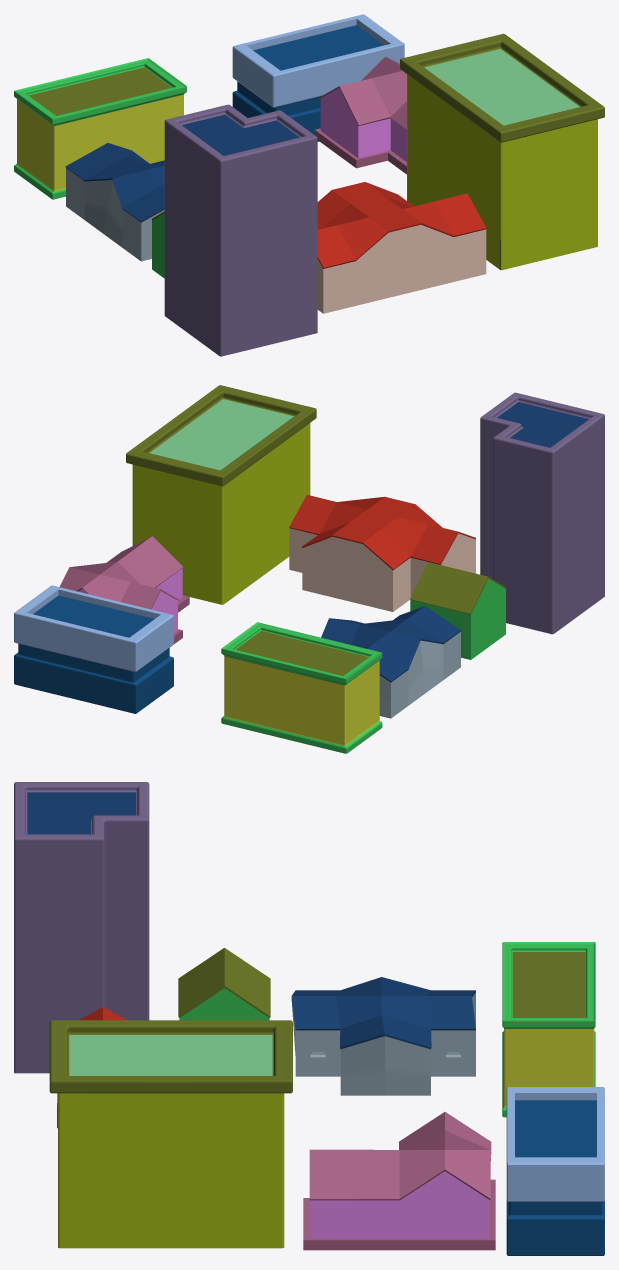
File: ruas2.fbx
3 views of the same model, one above another, from view 1: azimuth 30°, elevation 25°; view 2: azimuth 150°, elevation 25°; view 3: azimuth 270°, elevation 25° (orthographic). The views are drawn at different scales.
Parts seen in each view (by area): view 1: cidade 3.005, cidade 3.003, cidade 3.008, Cube.002, cidade 3.004, cidade 3.010, cidade 3.002, cidade 3.012, cidade 3.007, cidade 3.009, cidade 3.006; view 2: cidade 3.003, cidade 3.005, cidade 3.008, Cube.002, cidade 3.004, cidade 3.010, cidade 3.009, cidade 3.012, cidade 3.007, cidade 3.006, cidade 3.011, cidade 3.002; view 3: cidade 3.003, cidade 3.005, Cube.002, cidade 3.008, cidade 3.002, cidade 3.009, cidade 3.007, cidade 3.012, cidade 3.011, cidade 3.006.
Boxes of the visible parts, x1,y1,x2,y2 form: cidade 3.005: (164, 104, 317, 356); cidade 3.003: (400, 33, 604, 270); cidade 3.008: (14, 58, 186, 199); Cube.002: (232, 14, 404, 141); cidade 3.004: (317, 225, 486, 313); cidade 3.010: (317, 182, 486, 268); cidade 3.002: (314, 88, 406, 174); cidade 3.012: (65, 143, 164, 222); cidade 3.007: (66, 168, 164, 261); cidade 3.009: (320, 56, 406, 129); cidade 3.006: (152, 213, 164, 278); cidade 3.003: (126, 385, 316, 604); cidade 3.005: (480, 392, 604, 634); cidade 3.008: (221, 622, 382, 753); Cube.002: (14, 585, 173, 713); cidade 3.004: (289, 528, 475, 611); cidade 3.010: (289, 494, 475, 570); cidade 3.009: (59, 536, 182, 609); cidade 3.012: (321, 606, 461, 682); cidade 3.007: (379, 631, 460, 718); cidade 3.006: (410, 578, 505, 659); cidade 3.011: (410, 562, 506, 614); cidade 3.002: (77, 568, 189, 643); cidade 3.003: (49, 1020, 292, 1248); cidade 3.005: (14, 782, 149, 1073); Cube.002: (506, 1087, 604, 1255); cidade 3.008: (502, 942, 595, 1117); cidade 3.002: (303, 1171, 495, 1250); cidade 3.009: (309, 1112, 491, 1200); cidade 3.007: (291, 992, 475, 1095); cidade 3.012: (291, 977, 475, 1049); cidade 3.011: (178, 948, 270, 1017); cidade 3.006: (179, 988, 269, 1020).
Bounding box in the file's own units: 2792 × 1373 × 2979.
